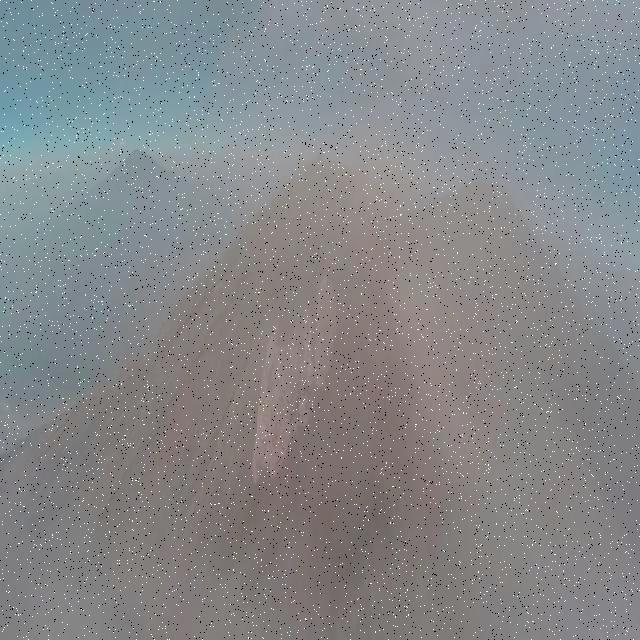Summit: (104, 133, 478, 504)
